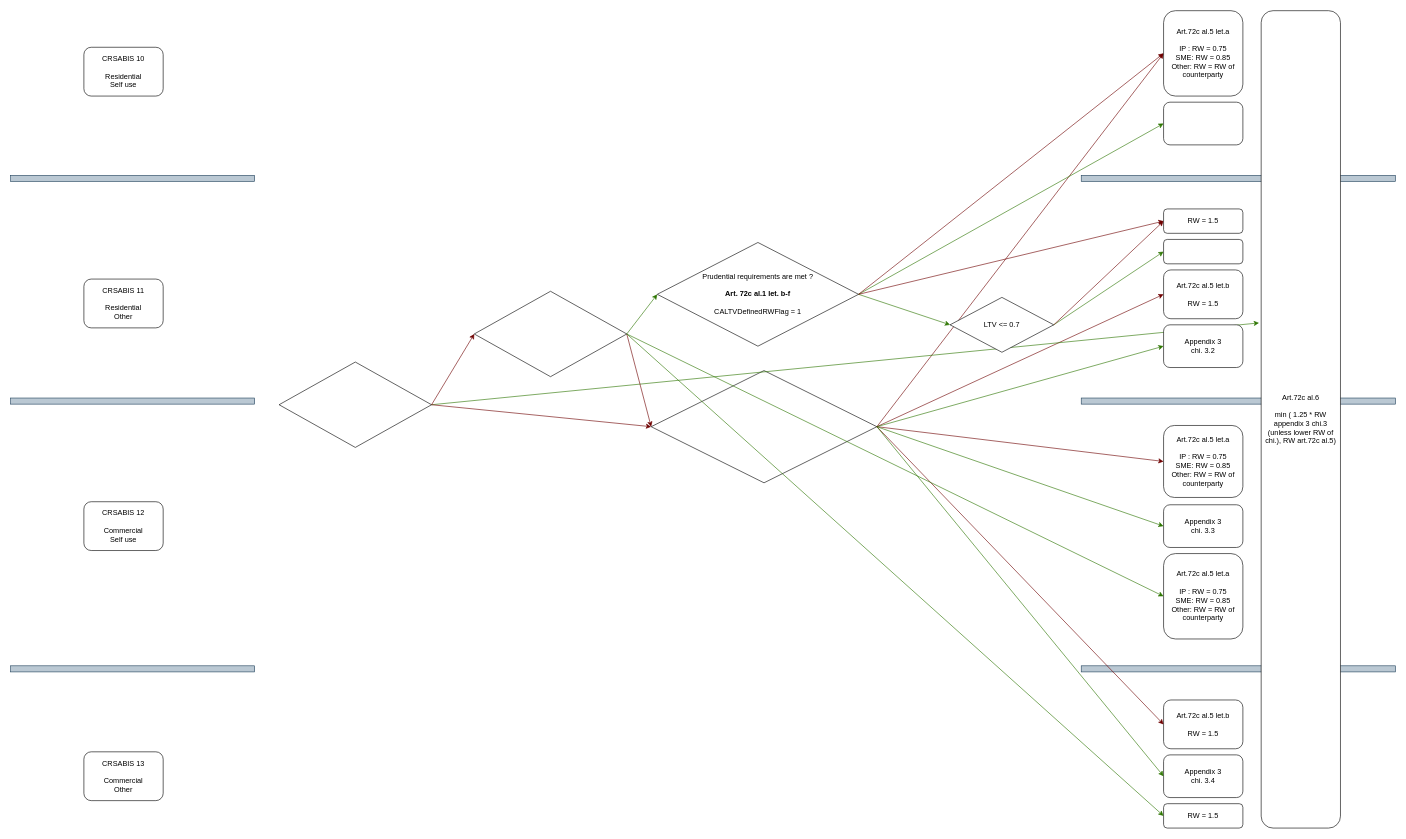
Some shapes in this 1406 by 839 pixel diagram are drawn without their labels. Each missing label, with the box of its shape:
Appendix 3 chi. 3.1: (1163, 102, 1243, 145)
Land and construction loans ?: (474, 291, 627, 377)
Prudential requirements are met ? Art. 72c al.1-3 CALTVDefinedRWFlag = 1: (651, 370, 877, 483)
RW = 1: (1163, 239, 1243, 264)
Subordinated position ?: (278, 361, 432, 447)
